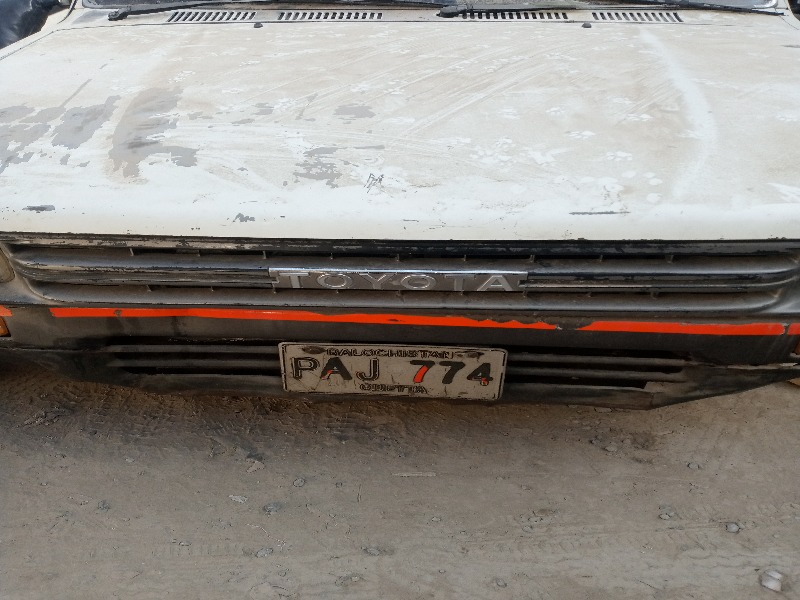License Plate: (274, 337, 507, 405)
